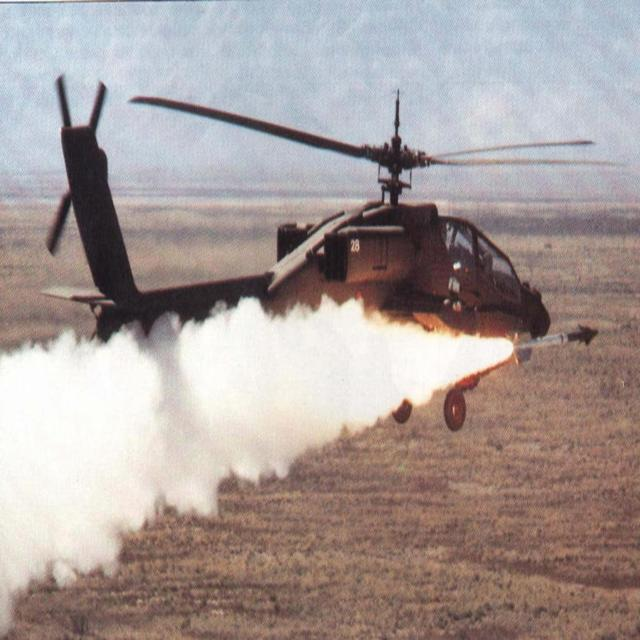MIL_HELO: (40, 24, 588, 467)
